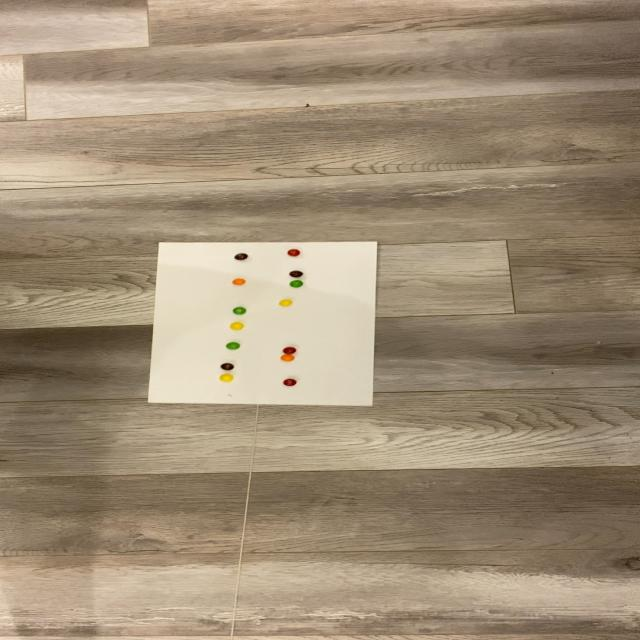smartie: (219, 362, 234, 371), (283, 346, 298, 355), (278, 298, 292, 307), (219, 374, 233, 383), (226, 342, 241, 350), (234, 253, 248, 261), (289, 270, 303, 278), (281, 354, 295, 362), (287, 249, 301, 257), (283, 379, 297, 387), (232, 307, 246, 315), (230, 322, 244, 330), (289, 280, 304, 287), (232, 279, 246, 286)
